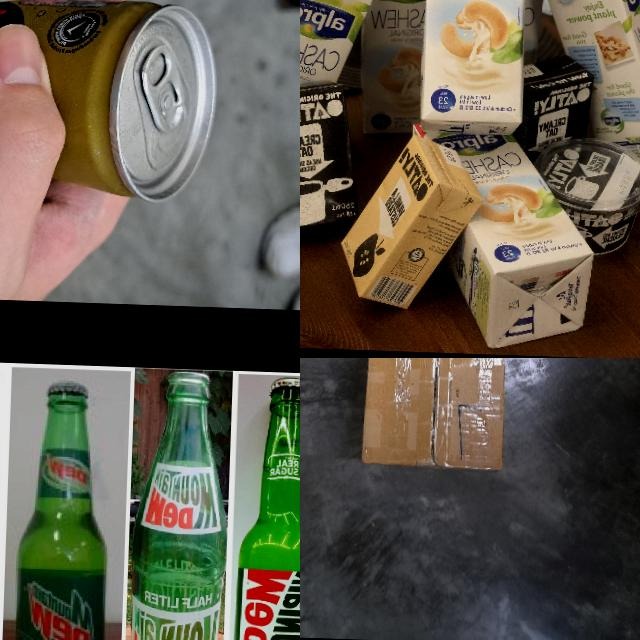aba de lata: (133, 38, 185, 134)
caixinha: (403, 125, 598, 352), (336, 130, 482, 312), (526, 0, 640, 177), (418, 0, 529, 137), (300, 0, 380, 179), (348, 0, 431, 136), (300, 79, 366, 236), (512, 51, 594, 165)
garrafa de vidro: (128, 369, 230, 640), (11, 380, 111, 640), (227, 375, 300, 640)
lata: (0, 0, 219, 202)
papelão: (361, 358, 511, 472)
